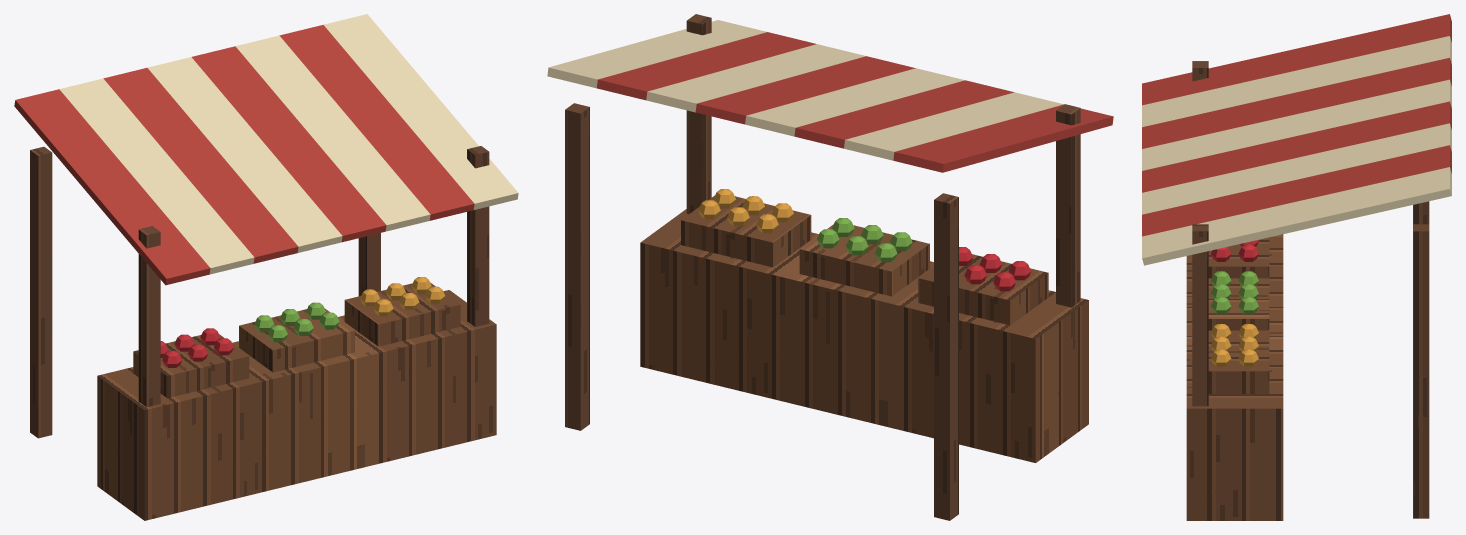
The model's file is stall.glb.
The picture shows the model from 3 angles, left to right: view 1: azimuth 30°, elevation 25°; view 2: azimuth 150°, elevation 25°; view 3: azimuth 270°, elevation 25°; orthographic projection. The views are drawn at different scales.
Visible parts, largest first — view 1: Stall; view 2: Stall; view 3: Stall.
Part boxes in pixels (<box>): Stall: <box>14,14,518,520</box>; Stall: <box>547,14,1113,520</box>; Stall: <box>1142,14,1451,520</box>.
Bounding box in the file's own units: 3 × 2.66 × 2.25.
Materials: 34 (8 with a texture image).
